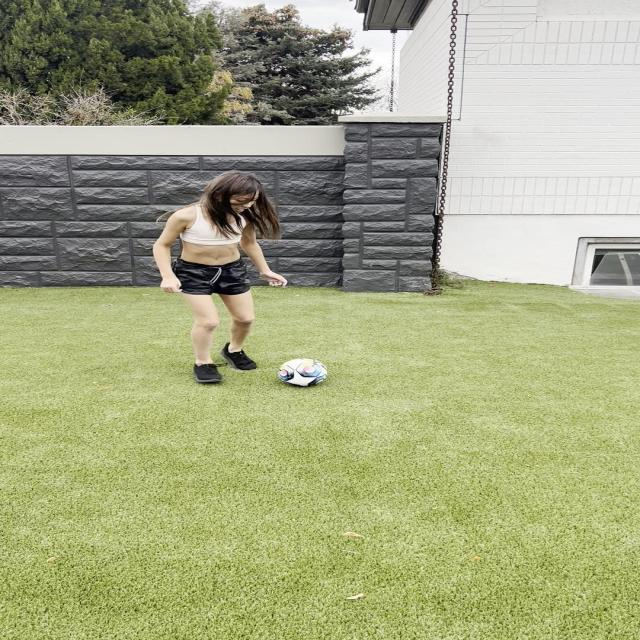Soccer Ball: (278, 359, 328, 387)
